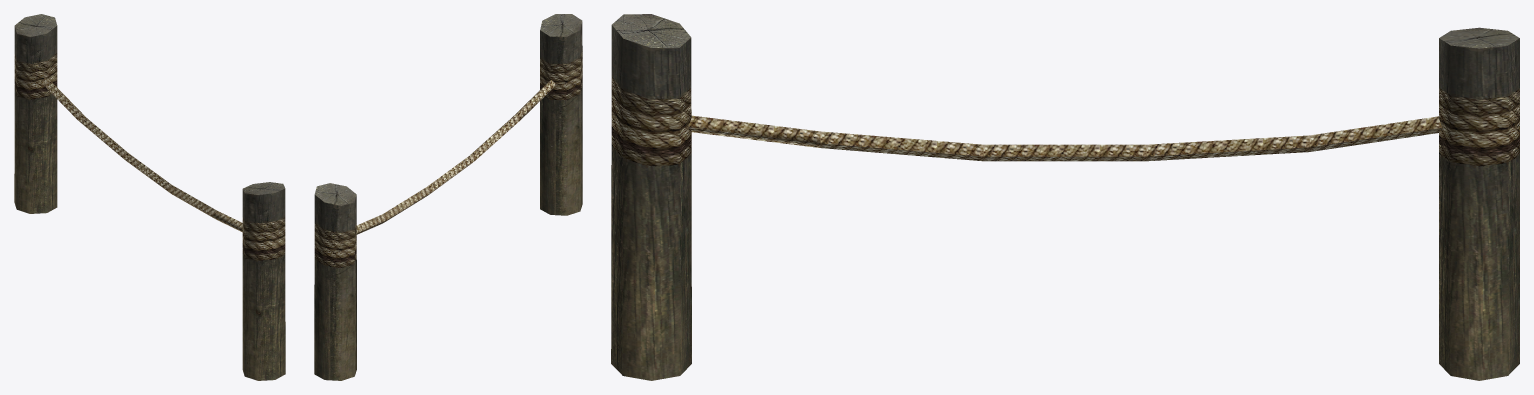
The model's file is fortms_pier_pillar01.fbx.
The picture shows the model from 3 angles, left to right: view 1: azimuth 30°, elevation 25°; view 2: azimuth 150°, elevation 25°; view 3: azimuth 270°, elevation 25°; orthographic projection. The views are drawn at different scales.
Parts seen in each view (by area): view 1: fortMS_pier_pillar01; view 2: fortMS_pier_pillar01; view 3: fortMS_pier_pillar01.
Part boxes in pixels (x1,y1,x2,y2): fortMS_pier_pillar01: [14, 14, 285, 380]; fortMS_pier_pillar01: [314, 14, 582, 380]; fortMS_pier_pillar01: [611, 14, 1519, 380].
Bounding box in the file's own units: 0.4759 × 2.2 × 5.35.
